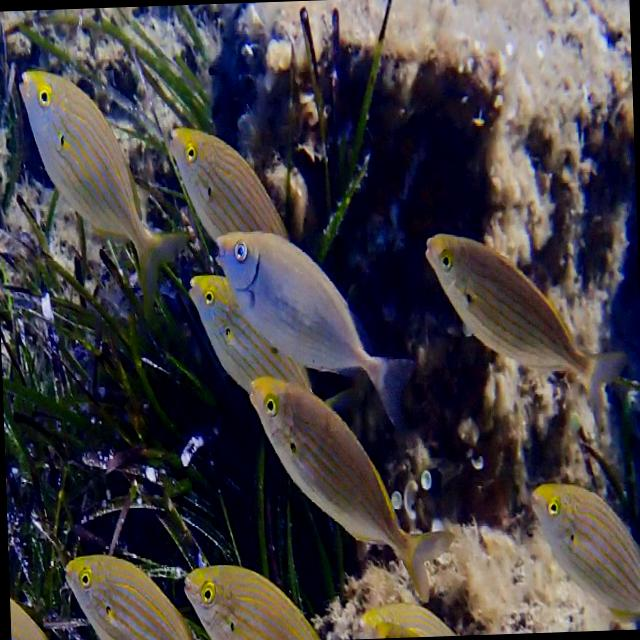Sokar Baligi: (417, 201, 640, 460), (244, 356, 462, 615), (13, 55, 194, 347), (528, 462, 640, 632)
